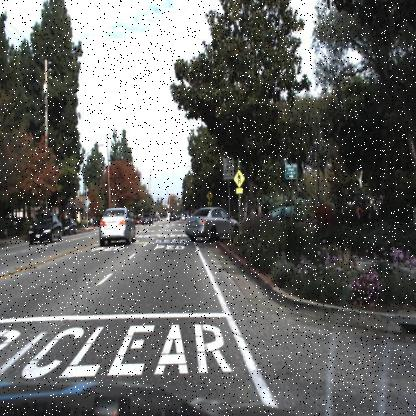car: (185, 204, 242, 243), (96, 206, 137, 247), (28, 212, 62, 245), (59, 213, 77, 236), (140, 209, 155, 229)
